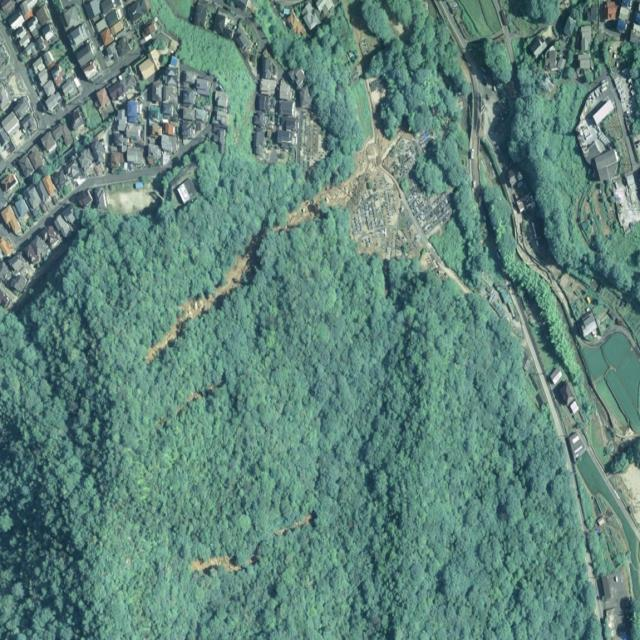landslide: (145, 253, 249, 362)
